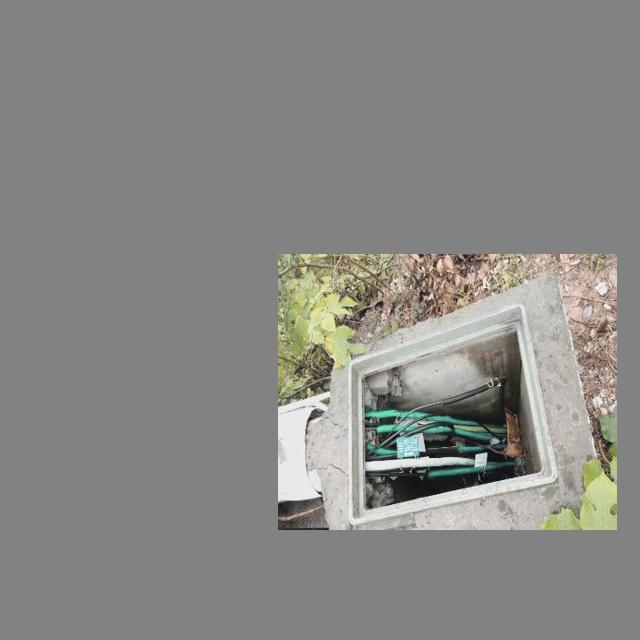lose: (348, 303, 558, 526)
